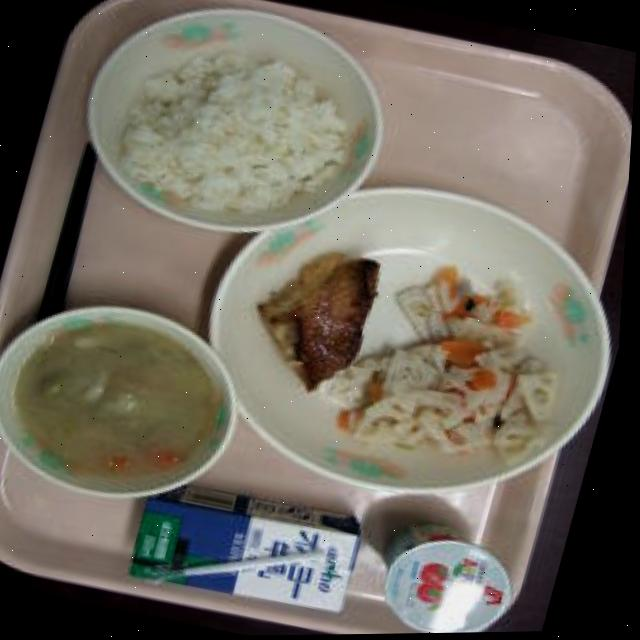米饭主食: (59, 0, 402, 261)
